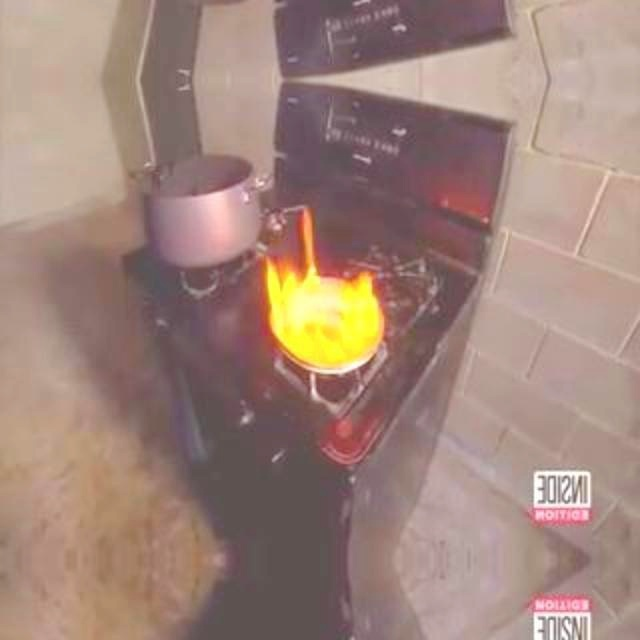fire: (239, 224, 392, 396)
